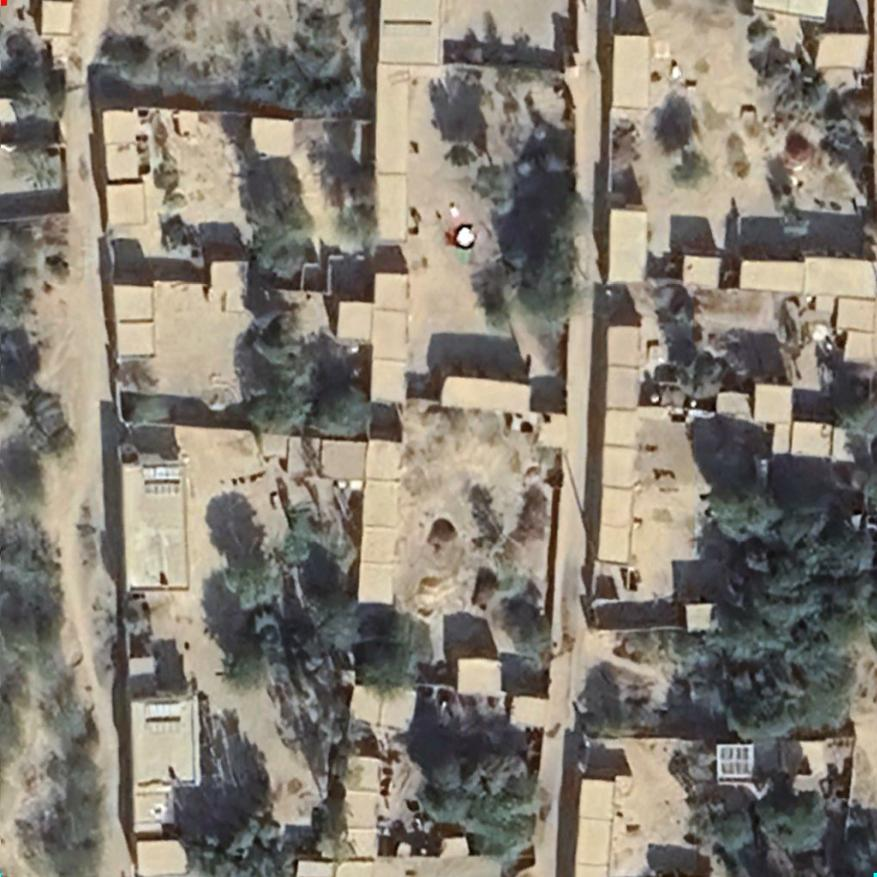Solarpanel: (714, 743, 756, 779), (140, 464, 185, 495), (141, 702, 185, 723)
